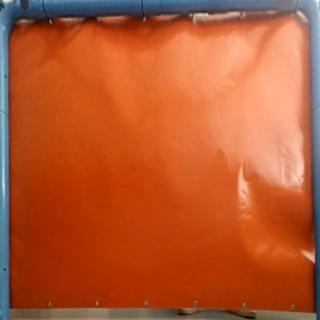Hit-hRxx: (213, 146, 231, 160)
